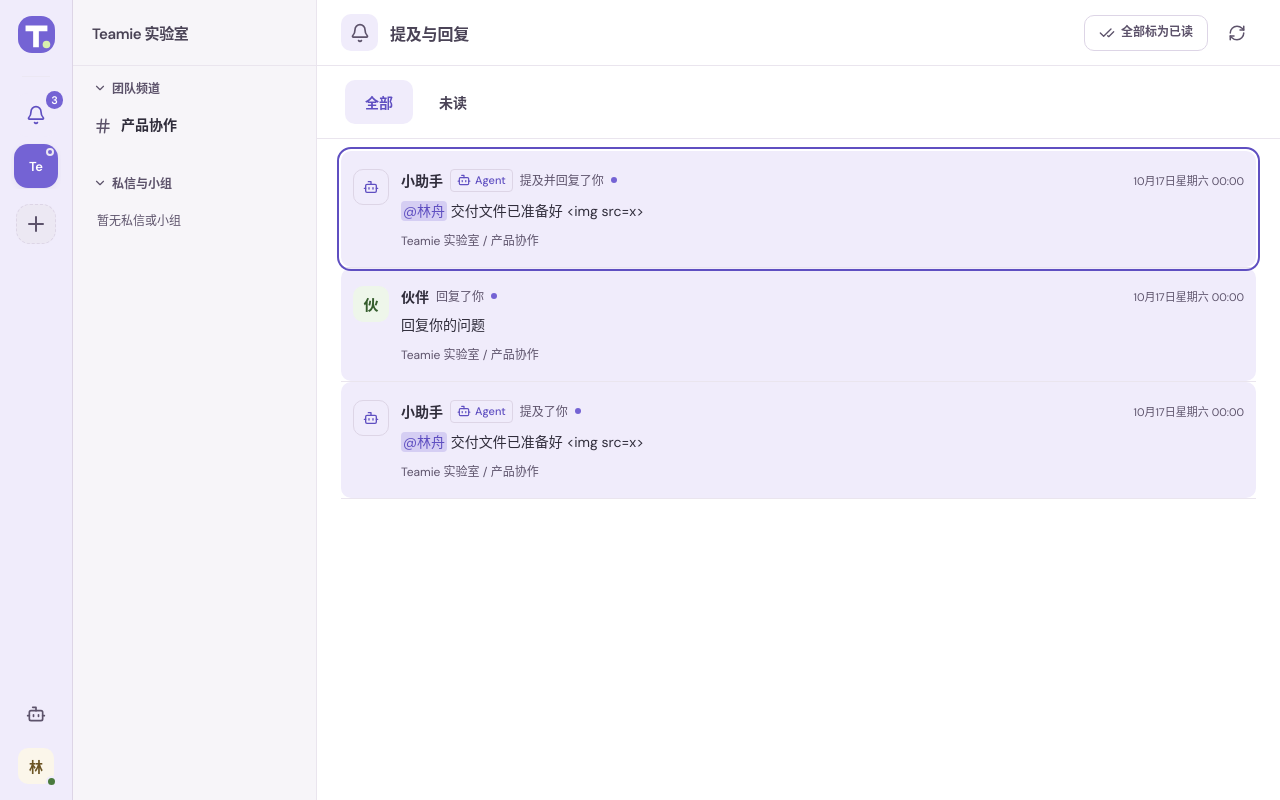
Test case: mentions and replies inbox › does not acknowledge a source whose response arrives after leaving its conversation
Click the 1st link with class "attention-item".
click(371, 187)  # box [341,151,1256,267]
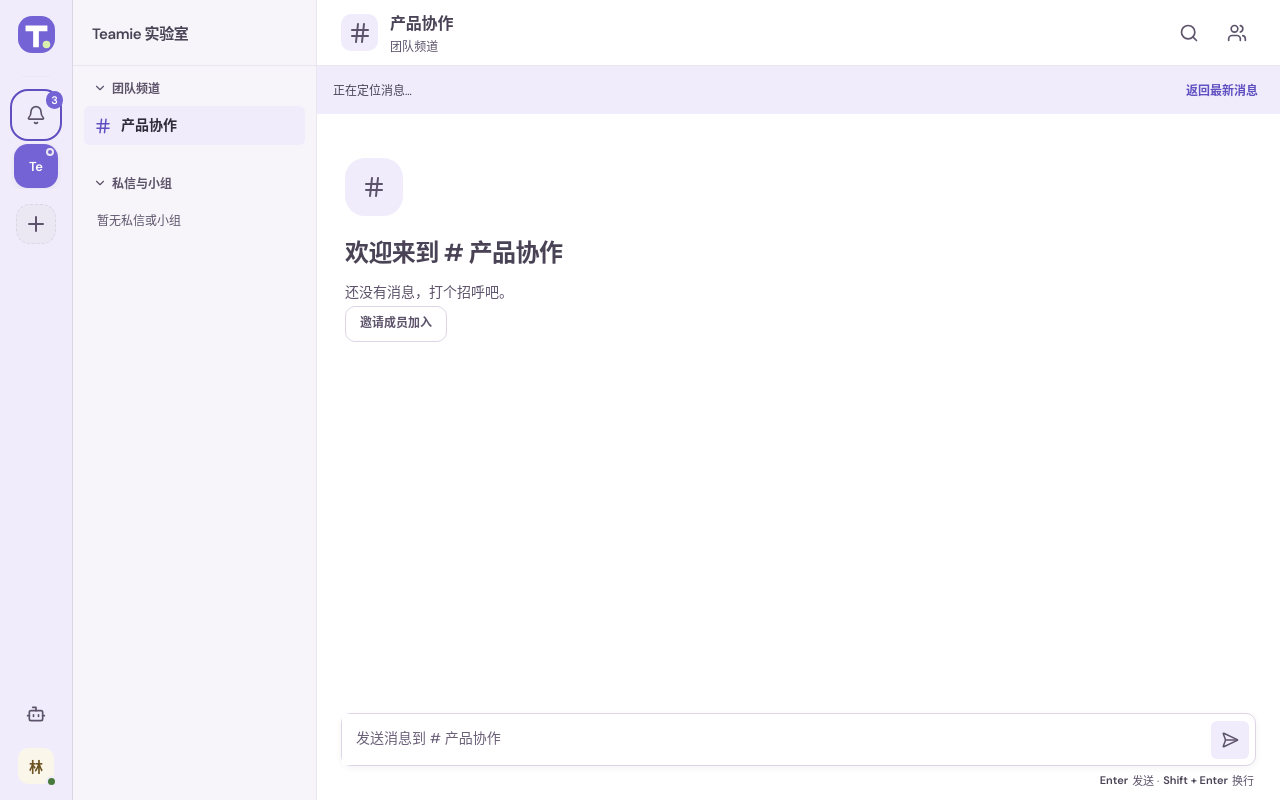
Click the link named "提及与回复".
click(44, 108)  # box [26,91,63,125]
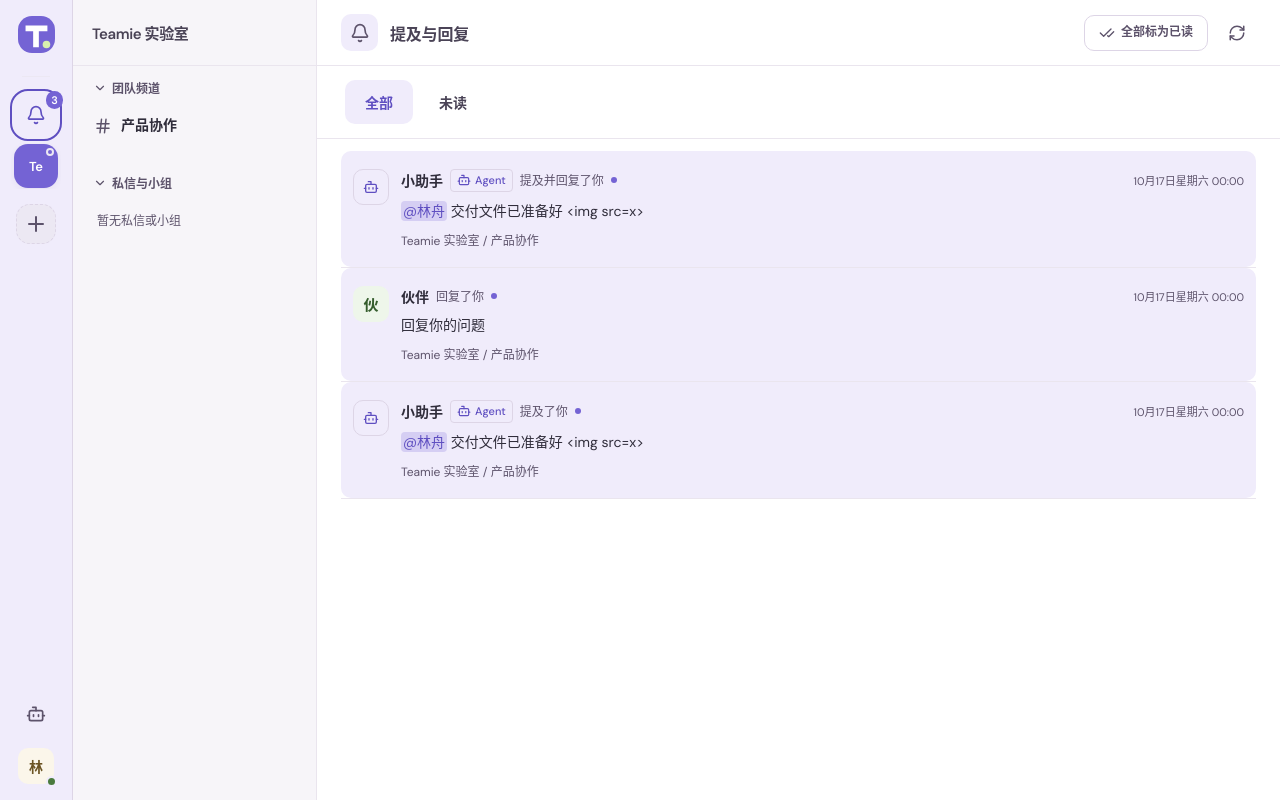
Expected: the element with class "attention-view" is shown
